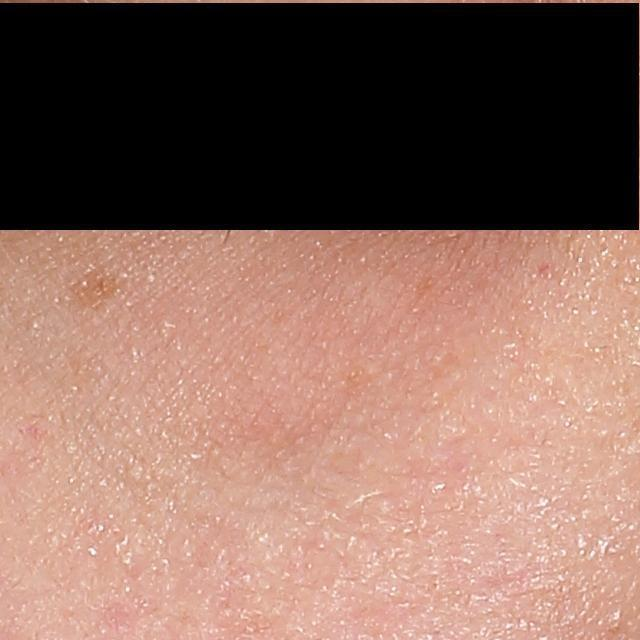melasma: (70, 268, 120, 311)
